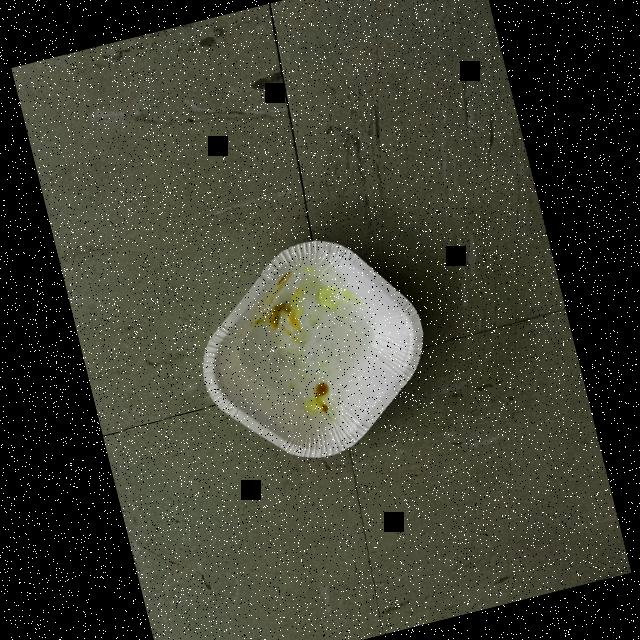cardboard_bowl: (168, 205, 462, 495)
